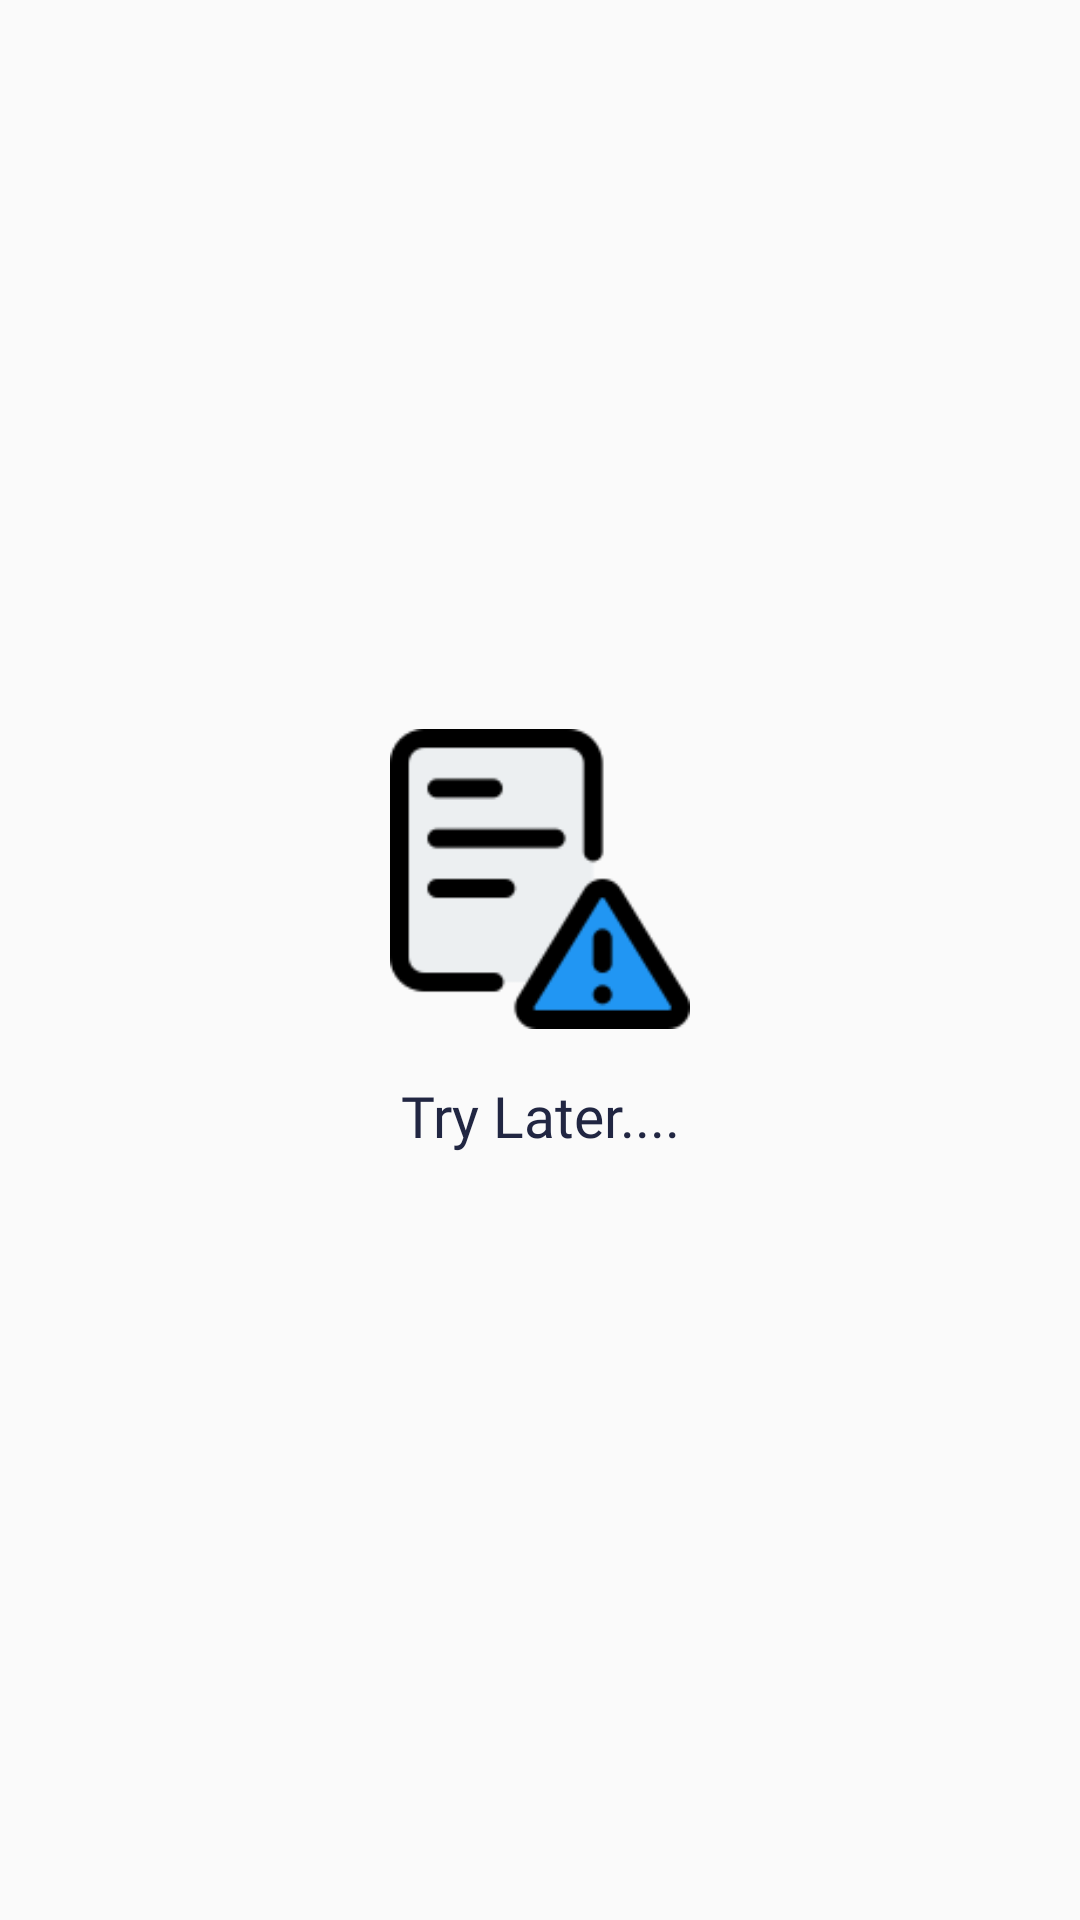

Named icons in this screenshot (1080w x 1920h) and their bounding boxes, (x1, y1, x2, y2):
error: (390, 729, 690, 1029)
